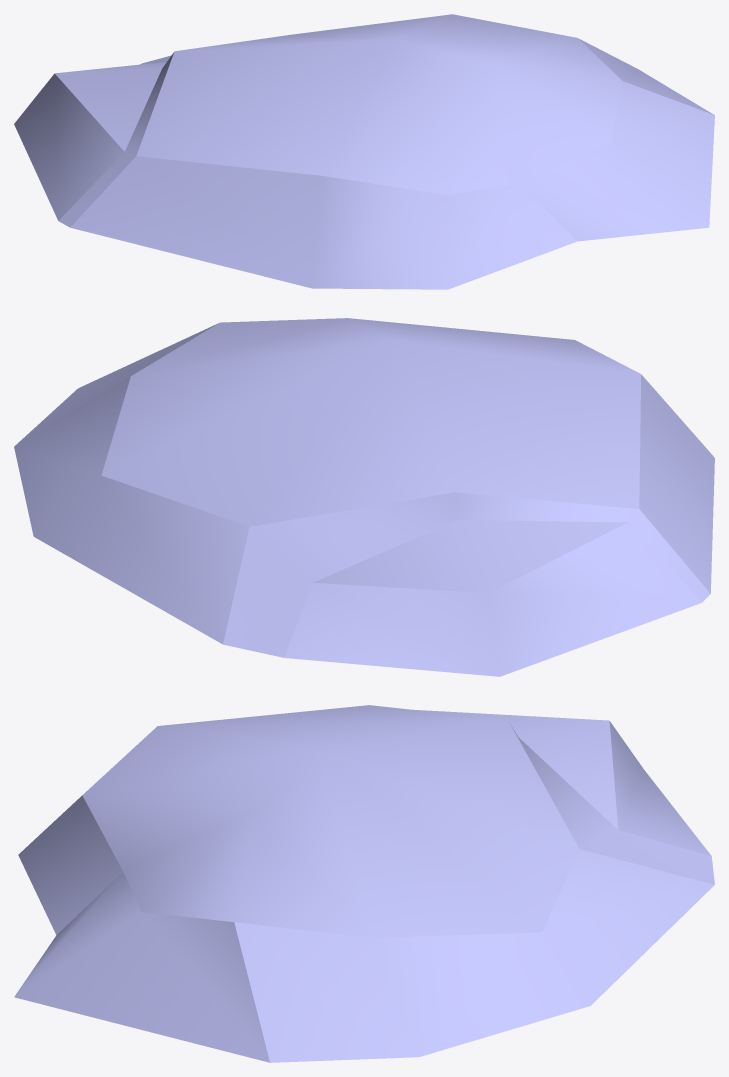
3 renders of one model, top to bottom at view 1: azimuth 30°, elevation 25°; view 2: azimuth 150°, elevation 25°; view 3: azimuth 270°, elevation 25°, orthographic. The views are drawn at different scales.
Parts seen in each view (by area): view 1: Object22; view 2: Object22; view 3: Object22.
Boxes of the visible parts, x1,y1,x2,y2 form: Object22: [14, 14, 714, 289]; Object22: [14, 318, 714, 676]; Object22: [14, 705, 714, 1062].
Size of the model in its own units: 286 by 59.67 by 257.
